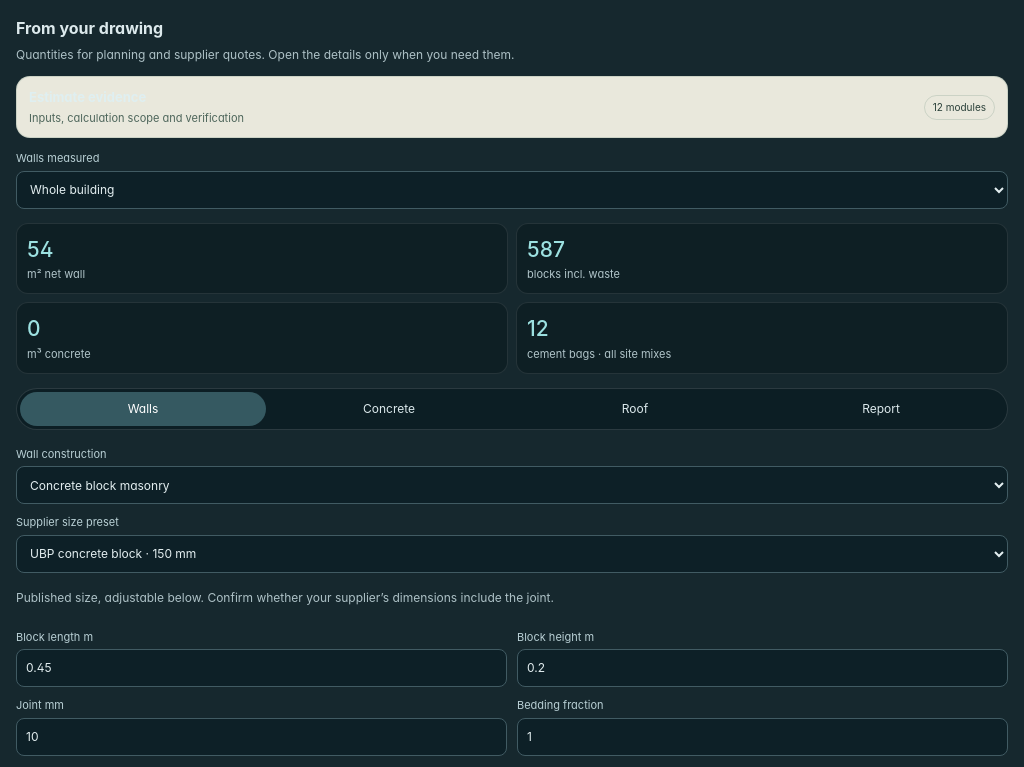
it: MaterialsPanel real property integration › keeps presentation demos price-free and prevents exporting saved quotation rates
The width and height of the screenshot is (1024, 767).
What coordinates should you click on to do the following:
click the button "Report"
I would click on:
 (881, 408)
Its box is [758,392,1004,426].
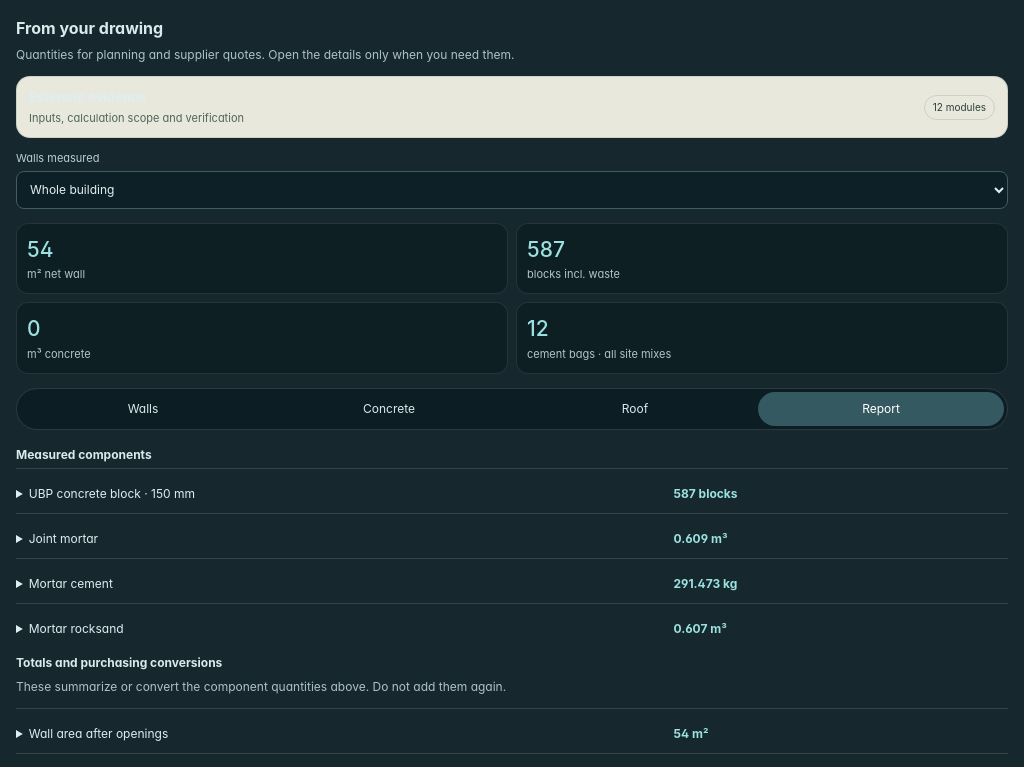
Expected: the text "Measured components" is shown, [16,446,152,462]
